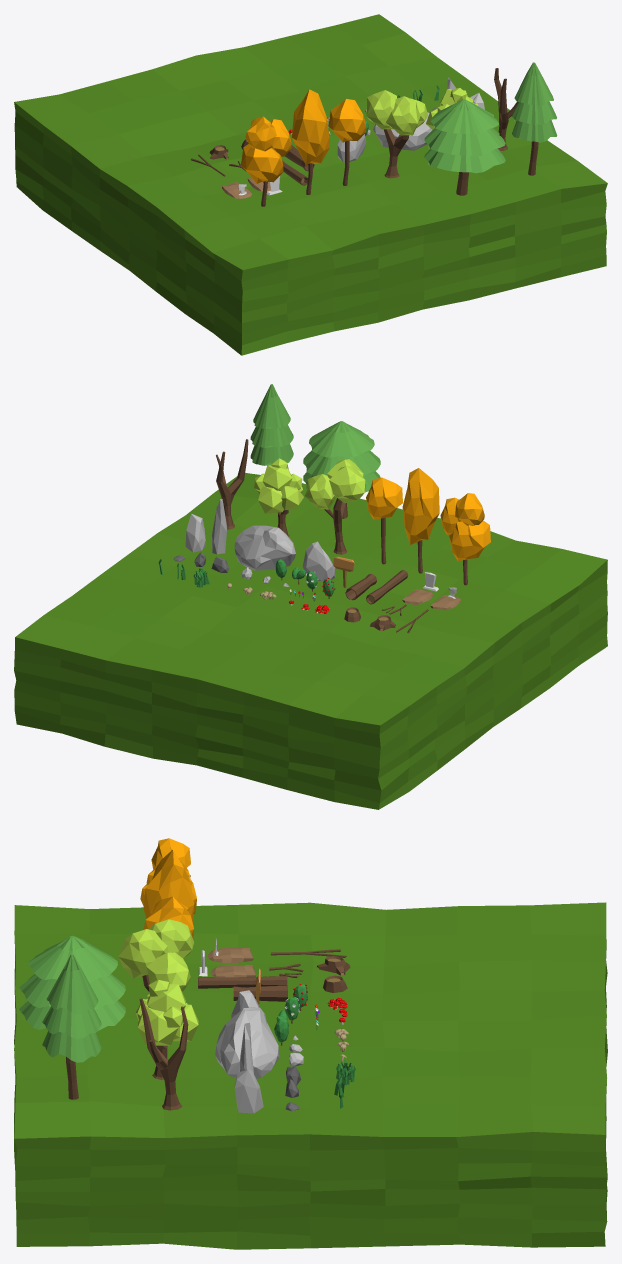
File: natureKit.fbx
3 renders of one model, top to bottom at view 1: azimuth 30°, elevation 25°; view 2: azimuth 150°, elevation 25°; view 3: azimuth 270°, elevation 25°, orthographic. The views are drawn at different scales.
Parts seen in each view (by area): view 1: Plane, Tree_C.002, Tree_C.001, Tree_E, Tree_B, Tree_D, Tree_C, Stone_Single_I, LeaflessTree, Tree_A, Stone_Single_J; view 2: Plane, Tree_C.002, Tree_B, Tree_E, Tree_C.001, Tree_D, Stone_Single_I, Tree_A, Tree_C, LeaflessTree, Stone_Single_J, Stone_Single_H (+1 smaller); view 3: Plane, Tree_C.002, Tree_C.001, Tree_B, Stone_Single_I, Tree_A, Tree_D, LeaflessTree, Stone_Single_G, Tree_E, Tree_C, Wood_B (+2 smaller).
Part boxes in pixels (box(x1,y1,x2,y2)): Plane: box(14, 14, 607, 355); Tree_C.002: box(424, 99, 505, 195); Tree_C.001: box(512, 62, 557, 175); Tree_E: box(241, 116, 291, 206); Tree_B: box(366, 90, 428, 178); Tree_D: box(292, 89, 329, 194); Tree_C: box(328, 99, 366, 185); Stone_Single_I: box(373, 112, 432, 150); LeaflessTree: box(494, 68, 518, 150); Tree_A: box(426, 87, 478, 129); Stone_Single_J: box(337, 134, 366, 162); Plane: box(14, 473, 607, 809); Tree_C.002: box(303, 421, 380, 518); Tree_B: box(304, 459, 365, 554); Tree_E: box(440, 493, 490, 585); Tree_C.001: box(250, 384, 293, 465); Tree_D: box(402, 468, 439, 573); Stone_Single_I: box(234, 525, 295, 570); Tree_A: box(254, 458, 303, 536); Tree_C: box(366, 477, 402, 564); LeaflessTree: box(216, 439, 248, 529); Stone_Single_J: box(302, 541, 335, 580); Stone_Single_H: box(212, 499, 226, 554); Plane: box(14, 902, 607, 1249); Tree_C.002: box(19, 935, 125, 1030); Tree_C.001: box(42, 954, 101, 1099); Tree_B: box(118, 919, 194, 991); Stone_Single_I: box(215, 1007, 279, 1078); Tree_A: box(136, 979, 198, 1080); Tree_D: box(143, 850, 193, 924); LeaflessTree: box(139, 998, 188, 1110); Stone_Single_G: box(234, 1070, 263, 1113); Tree_E: box(140, 838, 196, 913); Tree_C: box(143, 896, 193, 938); Wood_B: box(198, 976, 287, 988).
Size of the model in its own units: 3904 by 2080 by 4216.
